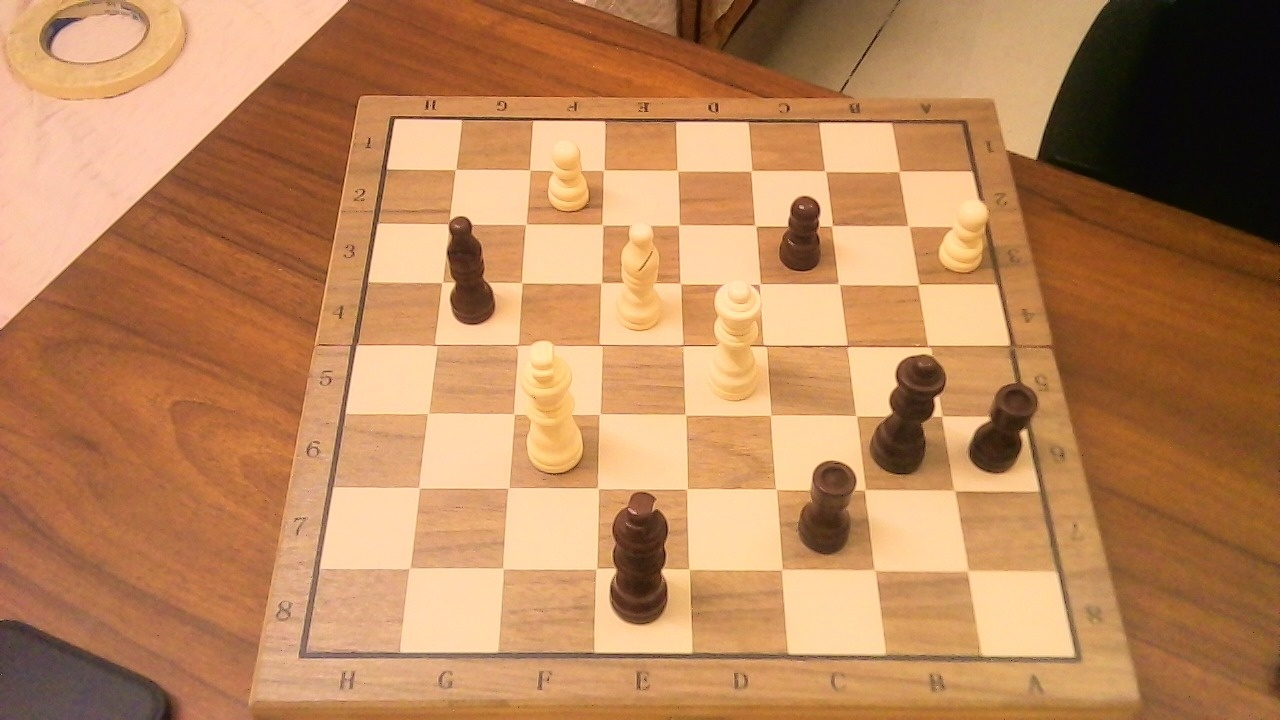B: (607, 211, 673, 336)
K: (516, 329, 592, 478)
P: (931, 189, 996, 275), (538, 131, 595, 215)
Q: (697, 268, 769, 407)
b: (442, 203, 508, 329)
k: (602, 475, 685, 630)
p: (772, 183, 832, 275)
q: (867, 339, 957, 478)
r: (963, 370, 1048, 477), (791, 448, 868, 558)
